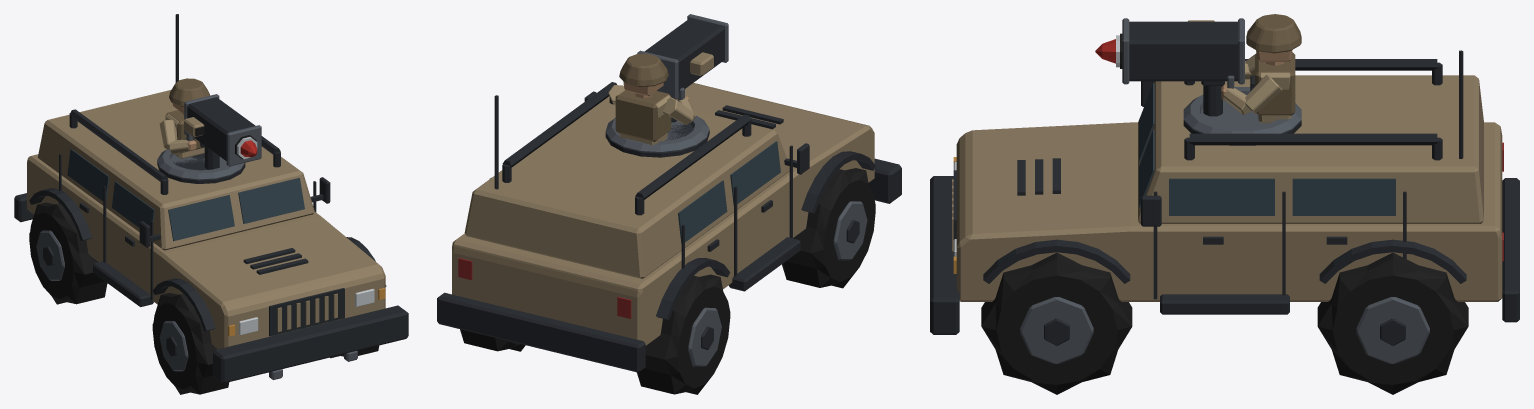
File: patrulla-misil.glb
The picture shows the model from 3 angles, left to right: view 1: azimuth 30°, elevation 25°; view 2: azimuth 150°, elevation 25°; view 3: azimuth 270°, elevation 25°; orthographic projection. The views are drawn at different scales.
Visible parts, largest first — view 1: casco, wheel_LB, wheel_LF, turret_yaw, gun_pitch, rocket_01; view 2: casco, wheel_LB, wheel_LF, turret_yaw, gun_pitch, wheel_RB; view 3: casco, wheel_RF, wheel_RB, turret_yaw, gun_pitch.
Boxes of the visible parts, box(x1,y1,x2,y2) form: casco: box(14, 14, 408, 383); wheel_LB: box(29, 202, 107, 304); wheel_LF: box(152, 293, 229, 394); turret_yaw: box(157, 78, 245, 183); gun_pitch: box(184, 94, 261, 166); rocket_01: box(237, 137, 257, 159); casco: box(437, 82, 901, 372); wheel_LB: box(637, 274, 730, 394); wheel_LF: box(782, 168, 875, 288); turret_yaw: box(605, 53, 709, 157); gun_pitch: box(637, 14, 728, 100); wheel_RB: box(460, 329, 525, 351); casco: box(930, 50, 1519, 334); wheel_RF: box(981, 252, 1132, 394); wheel_RB: box(1317, 252, 1468, 394); turret_yaw: box(1183, 14, 1301, 145); gun_pitch: box(1120, 18, 1244, 88).
Bounding box in the file's own units: 0.527 × 0.602 × 1.
